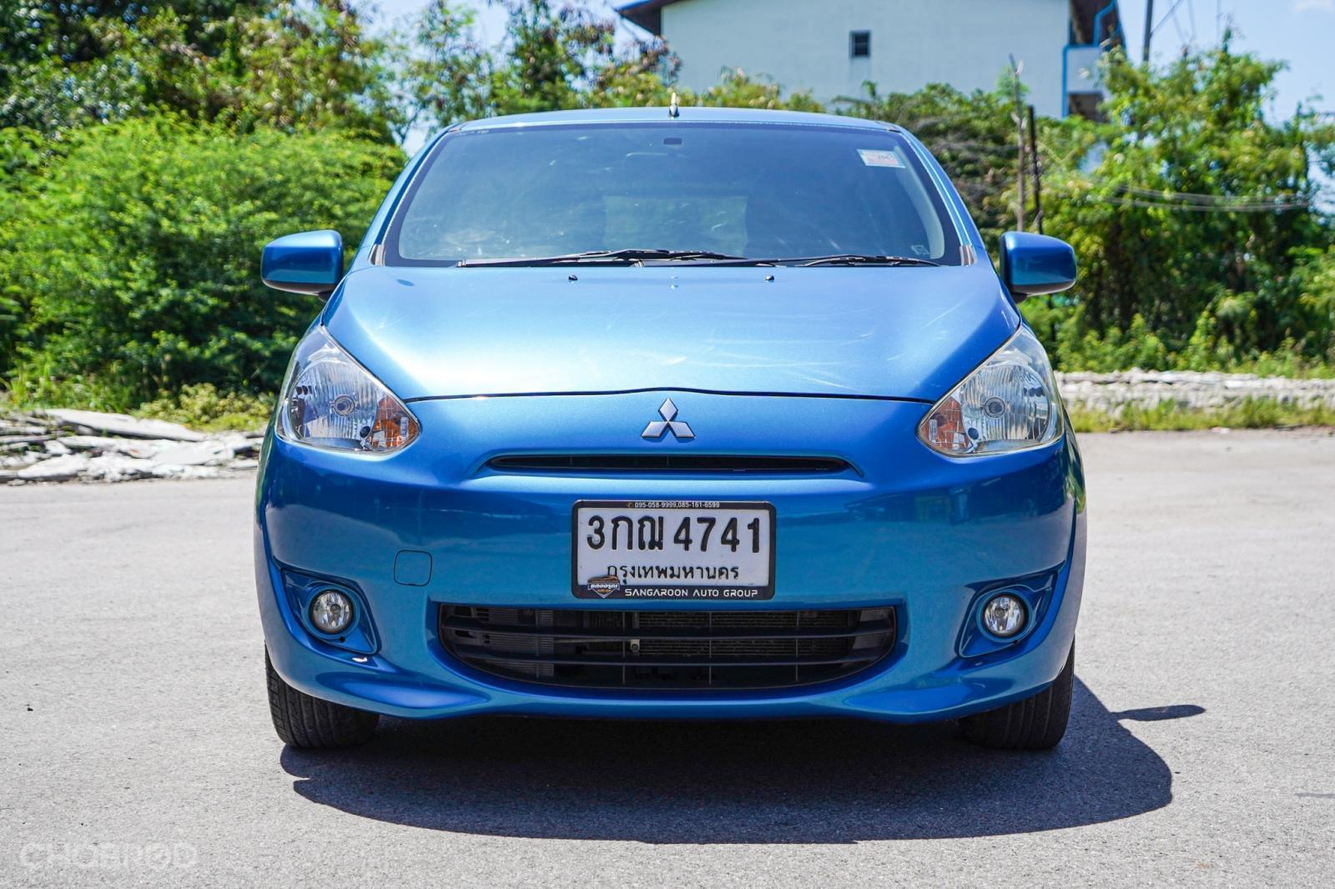license-plate: (566, 492, 779, 604)
